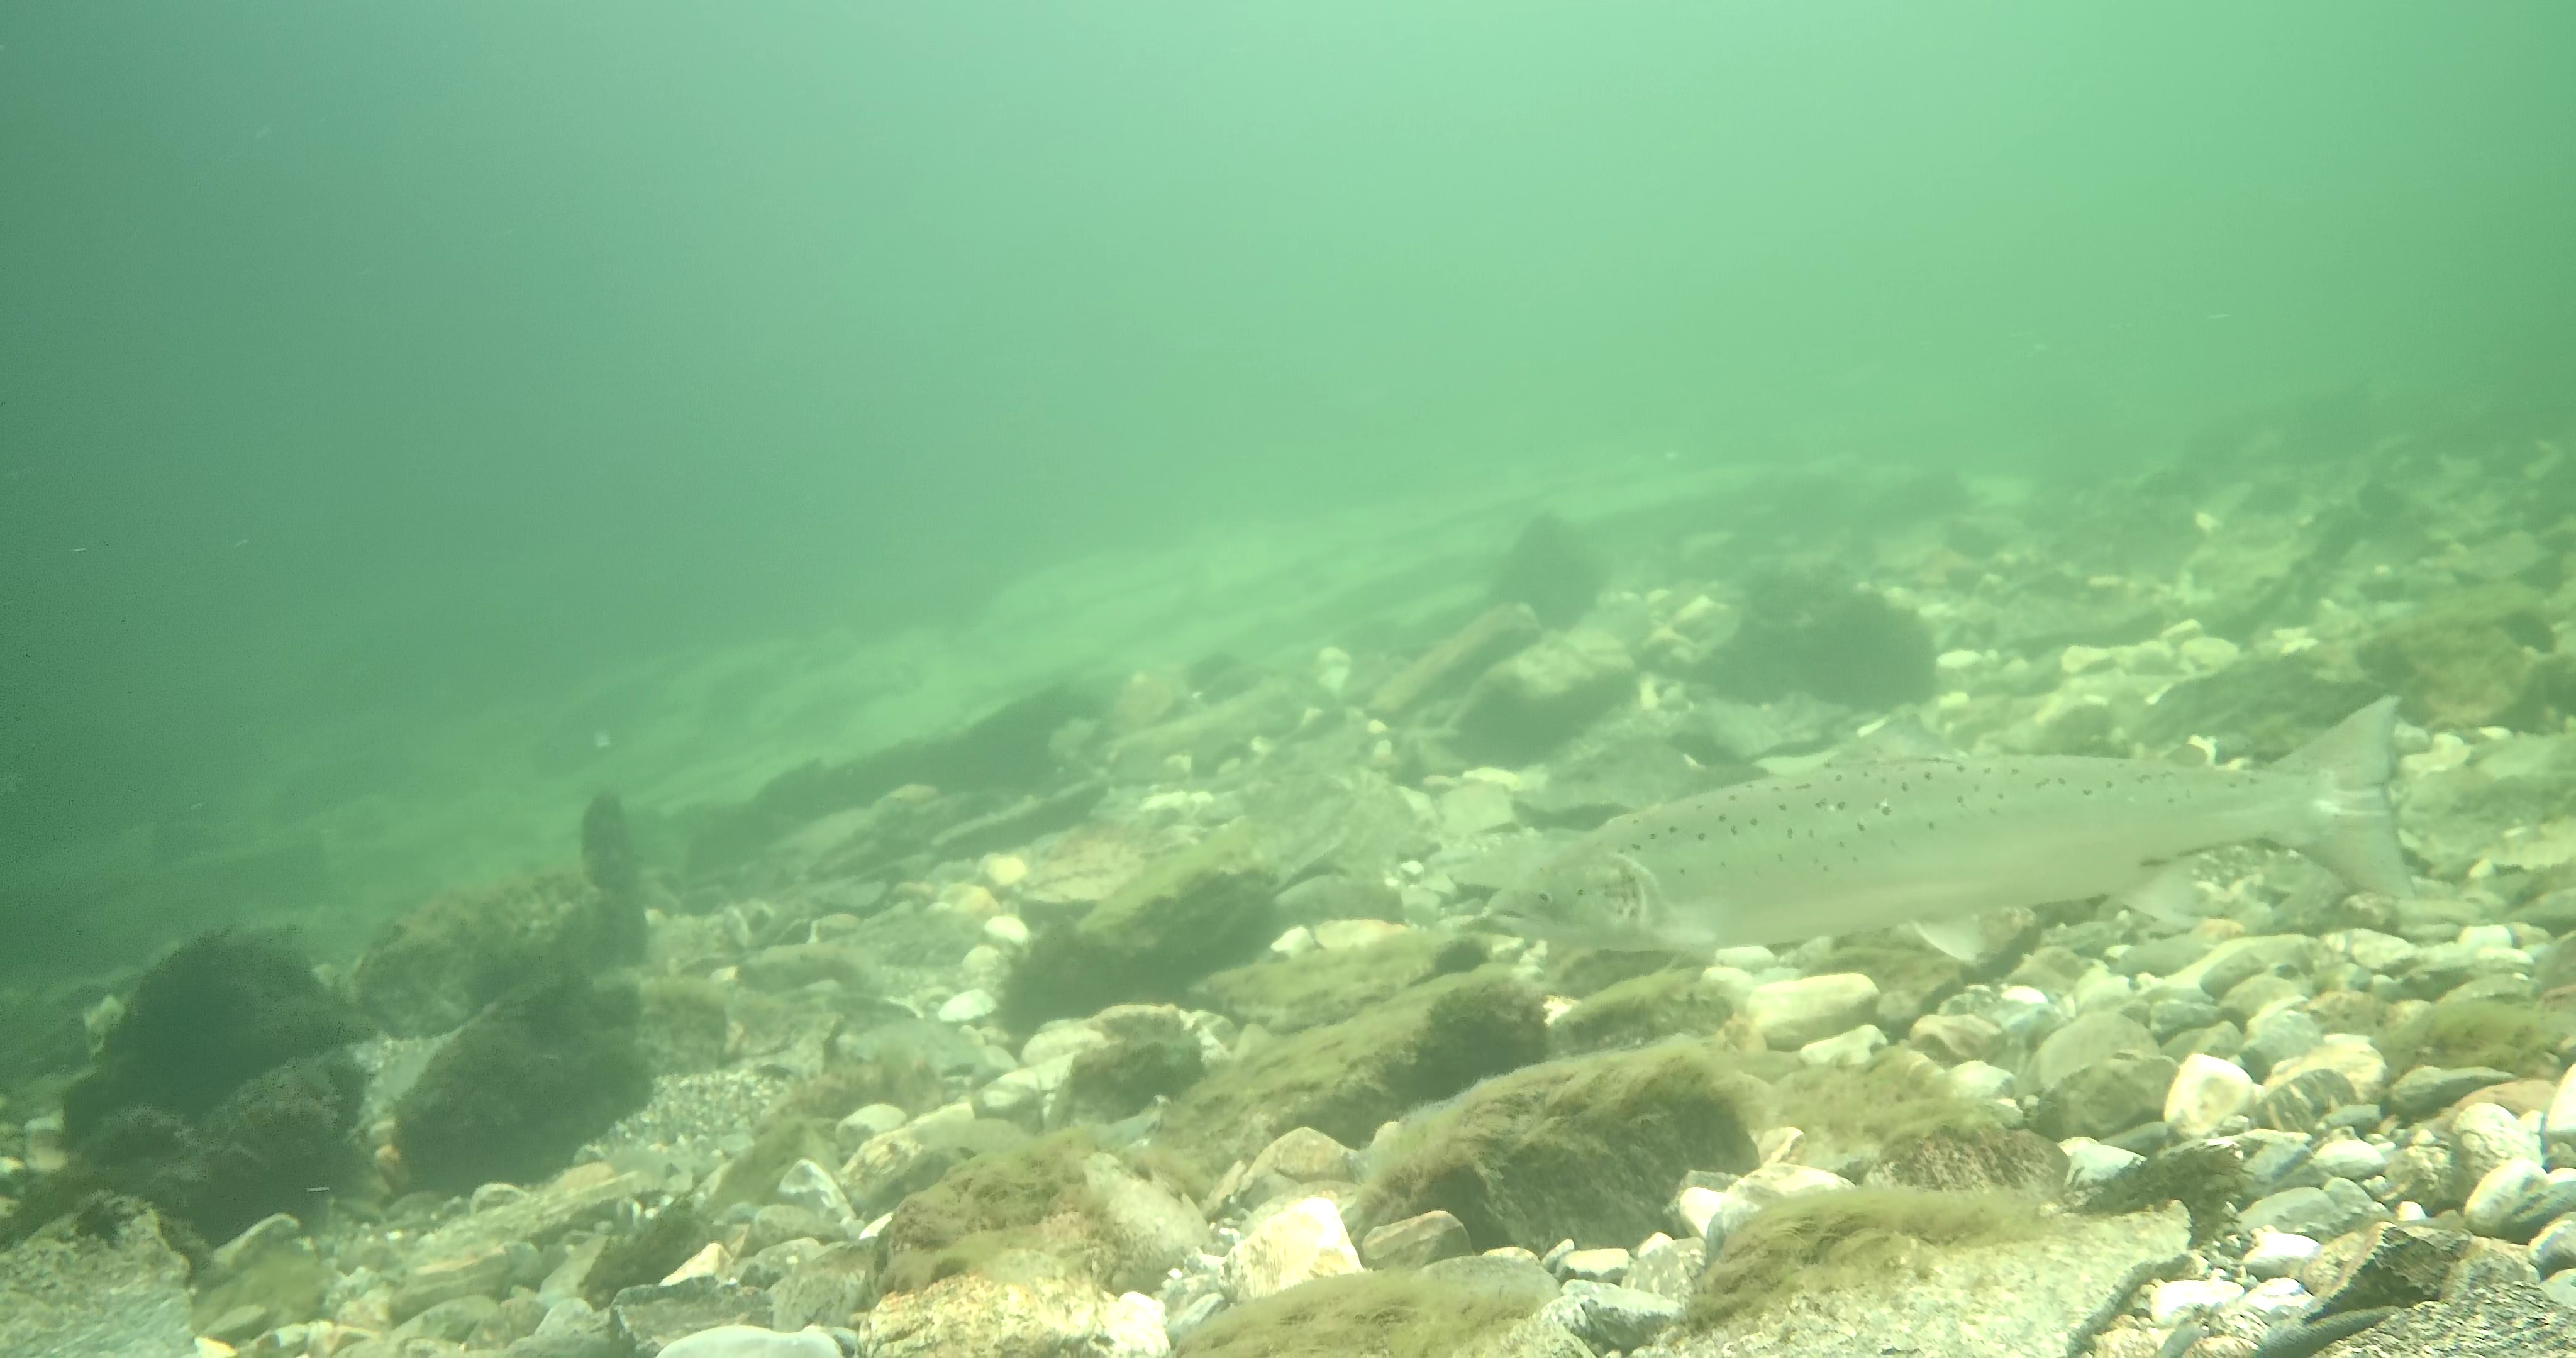salmon: (1491, 695, 2389, 971)
